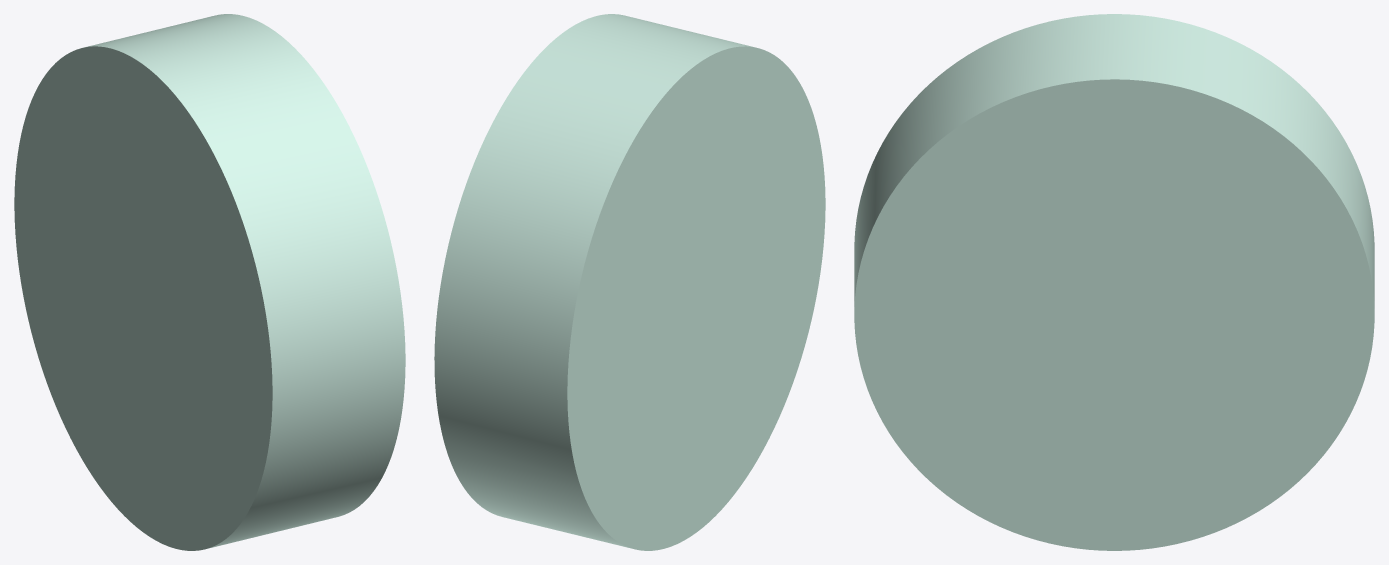
3 views of the same model, side by side, from view 1: azimuth 30°, elevation 25°; view 2: azimuth 150°, elevation 25°; view 3: azimuth 270°, elevation 25° (orthographic).
Visible parts, largest first — view 1: Renderer Node; view 2: Renderer Node; view 3: Renderer Node.
Part boxes in pixels (box(x1,y1,x2,y2)): Renderer Node: box(14, 14, 405, 550); Renderer Node: box(434, 14, 825, 550); Renderer Node: box(854, 14, 1374, 550).
Bounding box in the file's own units: 0.4531 × 1.52 × 1.52.
